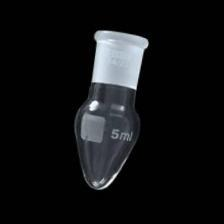Pear shaped flask: (74, 14, 147, 194)
